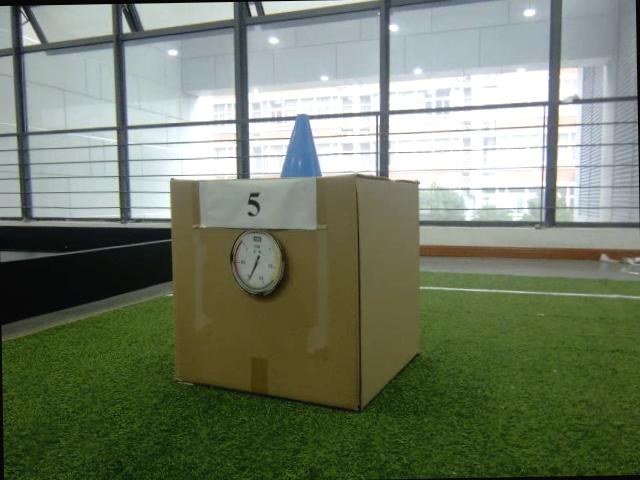5: (246, 190, 262, 216)
Dashboard: (228, 228, 288, 297)
blue_barrel: (282, 113, 326, 178)
ssi: (250, 234, 264, 244)
